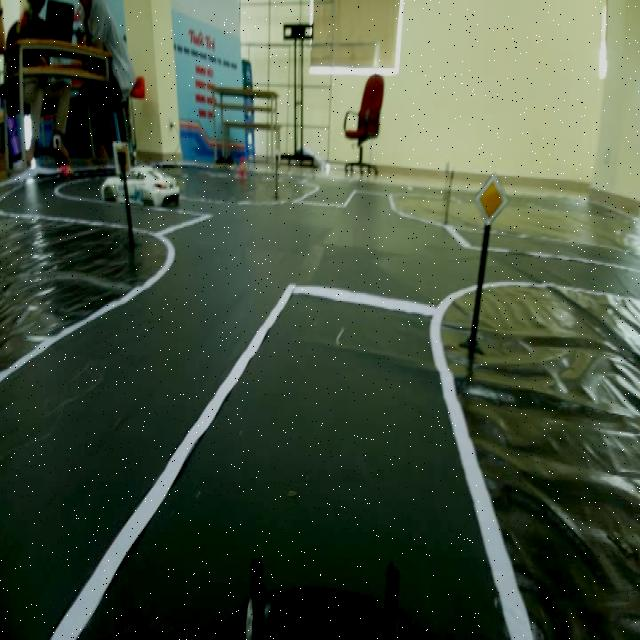priority: (472, 171, 514, 244)
